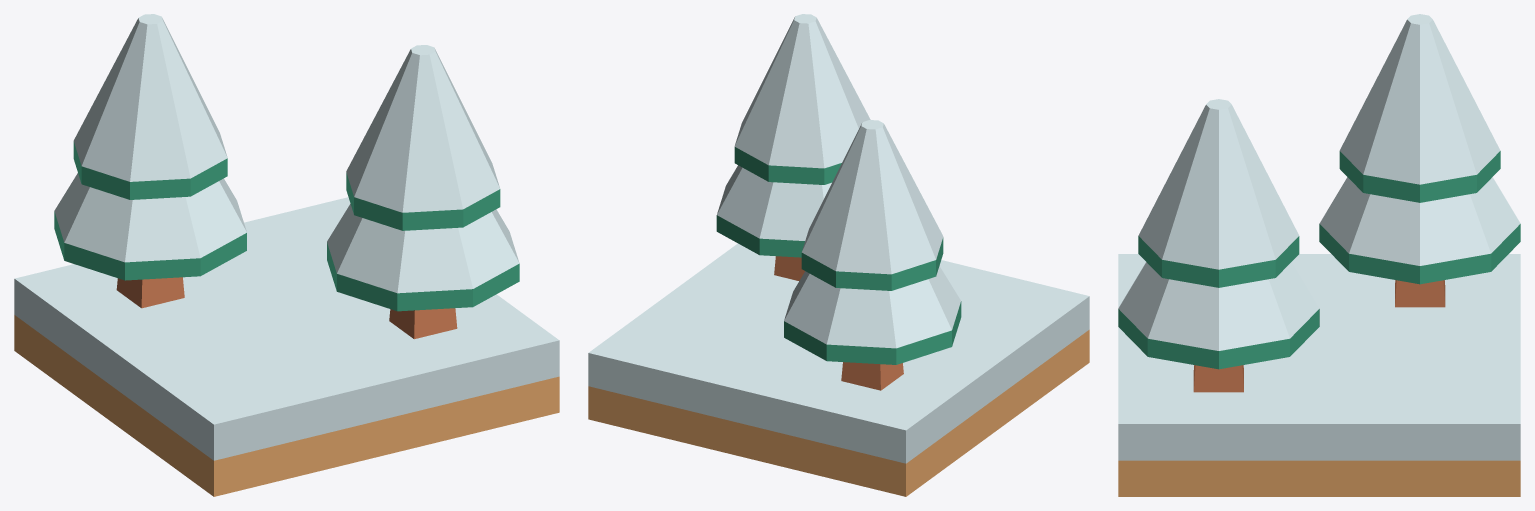
File: snow_tile_treeDouble.dae
3 renders of one model, left to right at view 1: azimuth 30°, elevation 25°; view 2: azimuth 150°, elevation 25°; view 3: azimuth 270°, elevation 25°, orthographic. The views are drawn at different scales.
Visible parts, largest first — view 1: snow_tile_treeDouble, tree (×2); view 2: snow_tile_treeDouble, tree (×2); view 3: snow_tile_treeDouble, tree (×2).
Part boxes in pixels (x1,y1,x2,y2): snow_tile_treeDouble: [14, 197, 559, 496]; tree (×2): [54, 14, 519, 339]; snow_tile_treeDouble: [588, 243, 1089, 496]; tree (×2): [716, 14, 961, 390]; snow_tile_treeDouble: [1118, 254, 1520, 496]; tree (×2): [1118, 14, 1520, 392].
Size of the model in its own units: 1 by 0.96 by 1.
